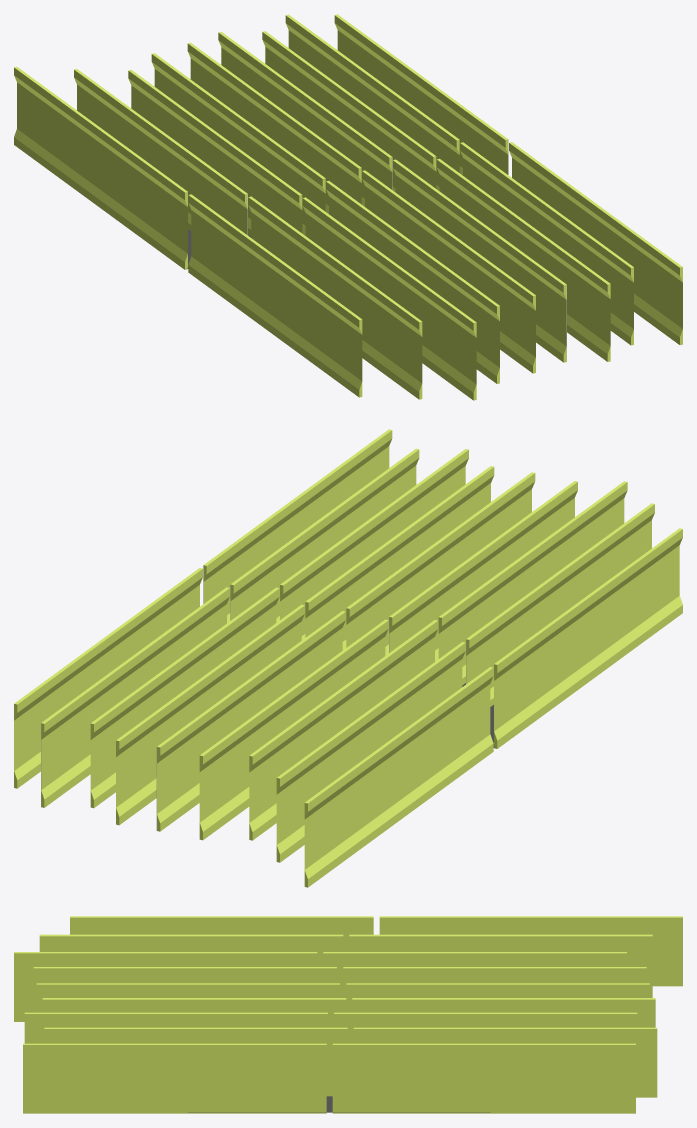
File: Narrow_gap.dae
3 renders of one model, top to bottom at view 1: azimuth 30°, elevation 25°; view 2: azimuth 150°, elevation 25°; view 3: azimuth 270°, elevation 25°, orthographic. The views are drawn at different scales.
Parts seen in each view (by area): view 1: node_a91a69b9_e395_4e62_b644_26e0bdc4dfdd_mesh8, node_a91a69b9_e395_4e62_b644_26e0bdc4dfdd_mesh14, node_a91a69b9_e395_4e62_b644_26e0bdc4dfdd_mesh4, node_a91a69b9_e395_4e62_b644_26e0bdc4dfdd_mesh11, node_a91a69b9_e395_4e62_b644_26e0bdc4dfdd_mesh5, node_a91a69b9_e395_4e62_b644_26e0bdc4dfdd_mesh3, node_a91a69b9_e395_4e62_b644_26e0bdc4dfdd_mesh18, node_a91a69b9_e395_4e62_b644_26e0bdc4dfdd_mesh6, node_a91a69b9_e395_4e62_b644_26e0bdc4dfdd_mesh17, node_a91a69b9_e395_4e62_b644_26e0bdc4dfdd_mesh2, node_a91a69b9_e395_4e62_b644_26e0bdc4dfdd_mesh9, node_a91a69b9_e395_4e62_b644_26e0bdc4dfdd_mesh10 (+6 smaller); view 2: node_a91a69b9_e395_4e62_b644_26e0bdc4dfdd_mesh14, node_a91a69b9_e395_4e62_b644_26e0bdc4dfdd_mesh8, node_a91a69b9_e395_4e62_b644_26e0bdc4dfdd_mesh6, node_a91a69b9_e395_4e62_b644_26e0bdc4dfdd_mesh15, node_a91a69b9_e395_4e62_b644_26e0bdc4dfdd_mesh0, node_a91a69b9_e395_4e62_b644_26e0bdc4dfdd_mesh16, node_a91a69b9_e395_4e62_b644_26e0bdc4dfdd_mesh10, node_a91a69b9_e395_4e62_b644_26e0bdc4dfdd_mesh1, node_a91a69b9_e395_4e62_b644_26e0bdc4dfdd_mesh7, node_a91a69b9_e395_4e62_b644_26e0bdc4dfdd_mesh4, node_a91a69b9_e395_4e62_b644_26e0bdc4dfdd_mesh11, node_a91a69b9_e395_4e62_b644_26e0bdc4dfdd_mesh12 (+6 smaller); view 3: node_a91a69b9_e395_4e62_b644_26e0bdc4dfdd_mesh5, node_a91a69b9_e395_4e62_b644_26e0bdc4dfdd_mesh7, node_a91a69b9_e395_4e62_b644_26e0bdc4dfdd_mesh14, node_a91a69b9_e395_4e62_b644_26e0bdc4dfdd_mesh16, node_a91a69b9_e395_4e62_b644_26e0bdc4dfdd_mesh6, node_a91a69b9_e395_4e62_b644_26e0bdc4dfdd_mesh8, node_a91a69b9_e395_4e62_b644_26e0bdc4dfdd_mesh4, node_a91a69b9_e395_4e62_b644_26e0bdc4dfdd_mesh11, node_a91a69b9_e395_4e62_b644_26e0bdc4dfdd_mesh2, node_a91a69b9_e395_4e62_b644_26e0bdc4dfdd_mesh9, node_a91a69b9_e395_4e62_b644_26e0bdc4dfdd_mesh0, node_a91a69b9_e395_4e62_b644_26e0bdc4dfdd_mesh18 (+7 smaller).
Boxes of the visible parts, bbox=[...] form: node_a91a69b9_e395_4e62_b644_26e0bdc4dfdd_mesh8: bbox=[188, 194, 362, 397]; node_a91a69b9_e395_4e62_b644_26e0bdc4dfdd_mesh14: bbox=[14, 66, 187, 269]; node_a91a69b9_e395_4e62_b644_26e0bdc4dfdd_mesh4: bbox=[248, 196, 422, 399]; node_a91a69b9_e395_4e62_b644_26e0bdc4dfdd_mesh11: bbox=[302, 197, 476, 400]; node_a91a69b9_e395_4e62_b644_26e0bdc4dfdd_mesh5: bbox=[509, 142, 682, 345]; node_a91a69b9_e395_4e62_b644_26e0bdc4dfdd_mesh3: bbox=[362, 170, 535, 373]; node_a91a69b9_e395_4e62_b644_26e0bdc4dfdd_mesh18: bbox=[436, 158, 610, 361]; node_a91a69b9_e395_4e62_b644_26e0bdc4dfdd_mesh6: bbox=[74, 69, 247, 235]; node_a91a69b9_e395_4e62_b644_26e0bdc4dfdd_mesh17: bbox=[393, 159, 566, 362]; node_a91a69b9_e395_4e62_b644_26e0bdc4dfdd_mesh2: bbox=[460, 142, 633, 345]; node_a91a69b9_e395_4e62_b644_26e0bdc4dfdd_mesh9: bbox=[326, 181, 499, 383]; node_a91a69b9_e395_4e62_b644_26e0bdc4dfdd_mesh10: bbox=[128, 69, 302, 235]; node_a91a69b9_e395_4e62_b644_26e0bdc4dfdd_mesh14: bbox=[304, 667, 493, 887]; node_a91a69b9_e395_4e62_b644_26e0bdc4dfdd_mesh8: bbox=[494, 528, 682, 748]; node_a91a69b9_e395_4e62_b644_26e0bdc4dfdd_mesh6: bbox=[276, 642, 465, 862]; node_a91a69b9_e395_4e62_b644_26e0bdc4dfdd_mesh15: bbox=[156, 611, 345, 831]; node_a91a69b9_e395_4e62_b644_26e0bdc4dfdd_mesh0: bbox=[199, 619, 388, 840]; node_a91a69b9_e395_4e62_b644_26e0bdc4dfdd_mesh16: bbox=[41, 587, 229, 807]; node_a91a69b9_e395_4e62_b644_26e0bdc4dfdd_mesh10: bbox=[249, 620, 438, 840]; node_a91a69b9_e395_4e62_b644_26e0bdc4dfdd_mesh1: bbox=[116, 604, 304, 825]; node_a91a69b9_e395_4e62_b644_26e0bdc4dfdd_mesh7: bbox=[14, 568, 202, 788]; node_a91a69b9_e395_4e62_b644_26e0bdc4dfdd_mesh4: bbox=[466, 503, 654, 706]; node_a91a69b9_e395_4e62_b644_26e0bdc4dfdd_mesh11: bbox=[438, 481, 627, 684]; node_a91a69b9_e395_4e62_b644_26e0bdc4dfdd_mesh12: bbox=[90, 587, 279, 808]; node_a91a69b9_e395_4e62_b644_26e0bdc4dfdd_mesh5: bbox=[23, 1043, 326, 1113]; node_a91a69b9_e395_4e62_b644_26e0bdc4dfdd_mesh7: bbox=[332, 1043, 635, 1113]; node_a91a69b9_e395_4e62_b644_26e0bdc4dfdd_mesh14: bbox=[379, 916, 682, 986]; node_a91a69b9_e395_4e62_b644_26e0bdc4dfdd_mesh16: bbox=[353, 1027, 657, 1097]; node_a91a69b9_e395_4e62_b644_26e0bdc4dfdd_mesh6: bbox=[349, 934, 652, 997]; node_a91a69b9_e395_4e62_b644_26e0bdc4dfdd_mesh8: bbox=[70, 916, 373, 951]; node_a91a69b9_e395_4e62_b644_26e0bdc4dfdd_mesh4: bbox=[39, 934, 343, 966]; node_a91a69b9_e395_4e62_b644_26e0bdc4dfdd_mesh11: bbox=[14, 952, 317, 1021]; node_a91a69b9_e395_4e62_b644_26e0bdc4dfdd_mesh2: bbox=[44, 1027, 347, 1096]; node_a91a69b9_e395_4e62_b644_26e0bdc4dfdd_mesh9: bbox=[33, 967, 336, 1012]; node_a91a69b9_e395_4e62_b644_26e0bdc4dfdd_mesh0: bbox=[343, 967, 646, 997]; node_a91a69b9_e395_4e62_b644_26e0bdc4dfdd_mesh18: bbox=[24, 1012, 327, 1043].
Bounding box in the file's own units: 5030 × 1250 × 11025.
